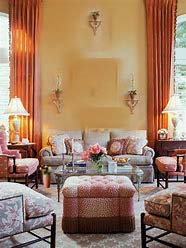copymove: (83, 8, 104, 37)
removal: (72, 58, 117, 106)
spliced: (40, 161, 51, 188)
